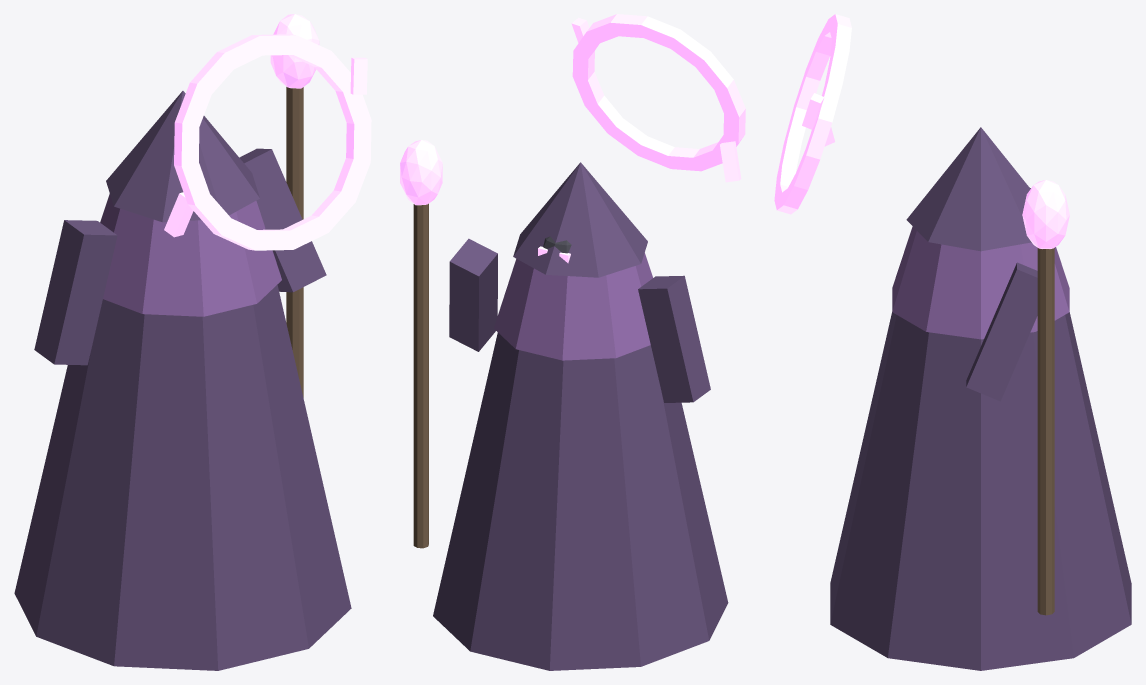
The model's file is boss_rift_herald.glb.
3 views of the same model, side by side, from view 1: azimuth 30°, elevation 25°; view 2: azimuth 150°, elevation 25°; view 3: azimuth 270°, elevation 25° (orthographic). The views are drawn at different scales.
Visible parts, largest first — view 1: boss_rift_herald_00, boss_rift_herald_01, boss_rift_herald_10, boss_rift_herald_02, boss_rift_herald_06, boss_rift_herald_07, boss_rift_herald_08, boss_rift_herald_09, boss_rift_herald_11, boss_rift_herald_12; view 2: boss_rift_herald_00, boss_rift_herald_01, boss_rift_herald_10, boss_rift_herald_02, boss_rift_herald_06, boss_rift_herald_08, boss_rift_herald_07, boss_rift_herald_09, boss_rift_herald_11; view 3: boss_rift_herald_00, boss_rift_herald_01, boss_rift_herald_02, boss_rift_herald_10, boss_rift_herald_08, boss_rift_herald_07, boss_rift_herald_09.
Part boxes in pixels (<box>): boss_rift_herald_00: <box>14,284,351,670</box>; boss_rift_herald_01: <box>100,193,281,316</box>; boss_rift_herald_10: <box>174,34,371,250</box>; boss_rift_herald_02: <box>106,91,259,222</box>; boss_rift_herald_06: <box>34,220,117,365</box>; boss_rift_herald_07: <box>239,148,326,292</box>; boss_rift_herald_08: <box>286,87,303,397</box>; boss_rift_herald_09: <box>270,14,319,88</box>; boss_rift_herald_11: <box>164,192,193,237</box>; boss_rift_herald_12: <box>350,57,367,94</box>; boss_rift_herald_00: <box>433,332,728,670</box>; boss_rift_herald_01: <box>494,253,652,360</box>; boss_rift_herald_10: <box>572,14,745,171</box>; boss_rift_herald_02: <box>513,162,647,277</box>; boss_rift_herald_06: <box>638,275,710,402</box>; boss_rift_herald_08: <box>413,203,428,548</box>; boss_rift_herald_07: <box>449,238,497,351</box>; boss_rift_herald_09: <box>400,140,442,205</box>; boss_rift_herald_11: <box>720,141,741,182</box>; boss_rift_herald_00: <box>830,312,1131,670</box>; boss_rift_herald_01: <box>892,226,1069,339</box>; boss_rift_herald_02: <box>906,127,1031,251</box>; boss_rift_herald_10: <box>774,14,851,214</box>; boss_rift_herald_08: <box>1037,248,1054,615</box>; boss_rift_herald_07: <box>966,262,1037,401</box>; boss_rift_herald_09: <box>1022,180,1069,248</box>.
Bounding box in the file's own units: 1.83 × 3.44 × 1.92.
